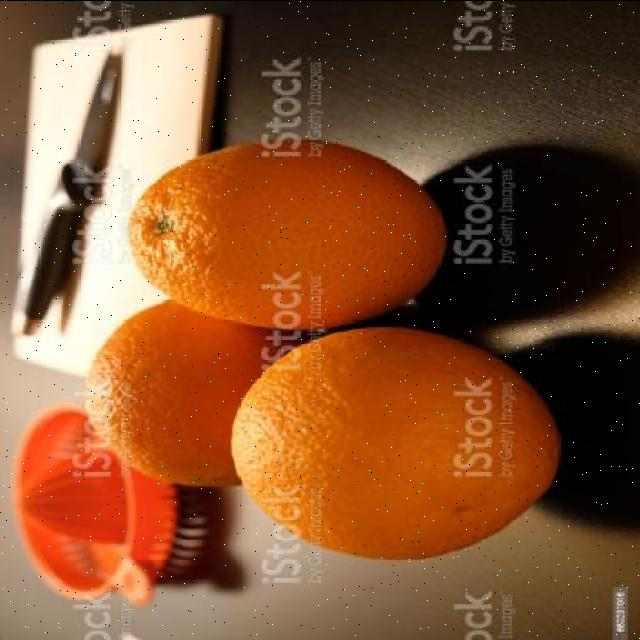Orange: (228, 326, 560, 562), (124, 138, 447, 332), (80, 300, 297, 489)
